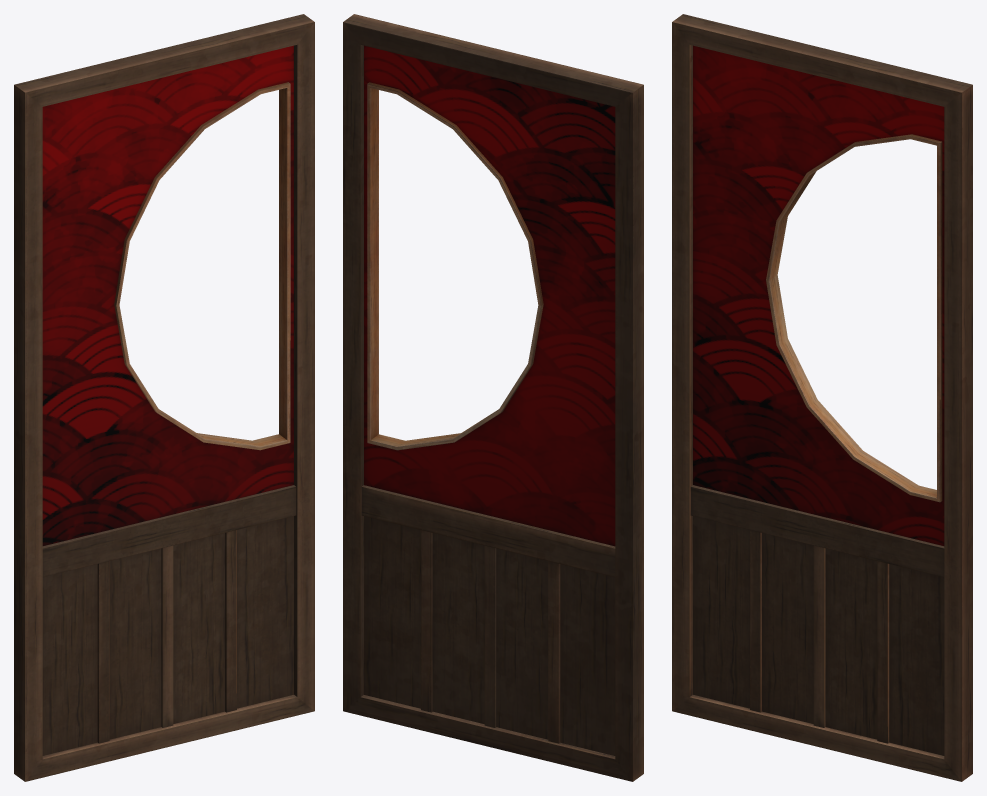
Rendered from Door_C_L.fbx.
The picture shows the model from 3 angles, left to right: view 1: azimuth 30°, elevation 25°; view 2: azimuth 150°, elevation 25°; view 3: azimuth 330°, elevation 25°; orthographic projection.
Visible parts, largest first — view 1: Door_C_L; view 2: Door_C_L; view 3: Door_C_L.
Boxes of the visible parts, x1,y1,x2,y2 form: Door_C_L: (14,14,314,781); Door_C_L: (343,14,643,781); Door_C_L: (672,14,972,781).
Bounding box in the file's own units: 133 × 303 × 8.84.
